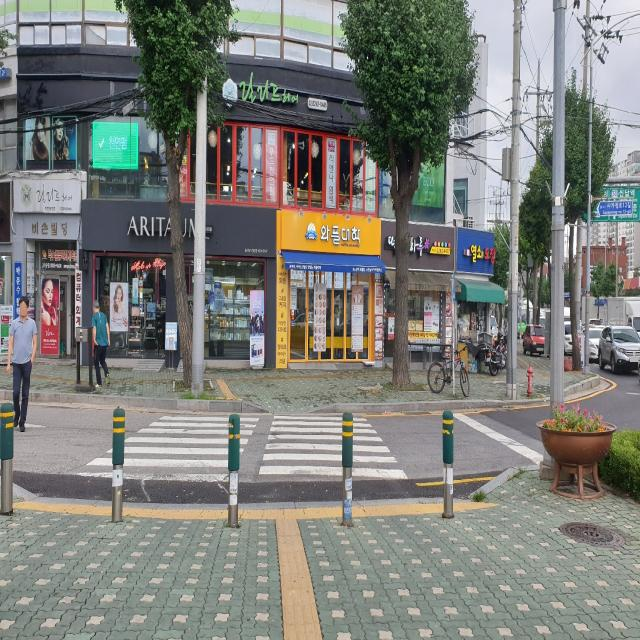횡단보도: (75, 413, 410, 484)
